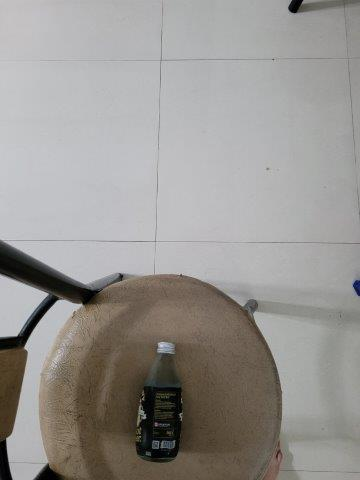botolkaca: (135, 342, 183, 460)
